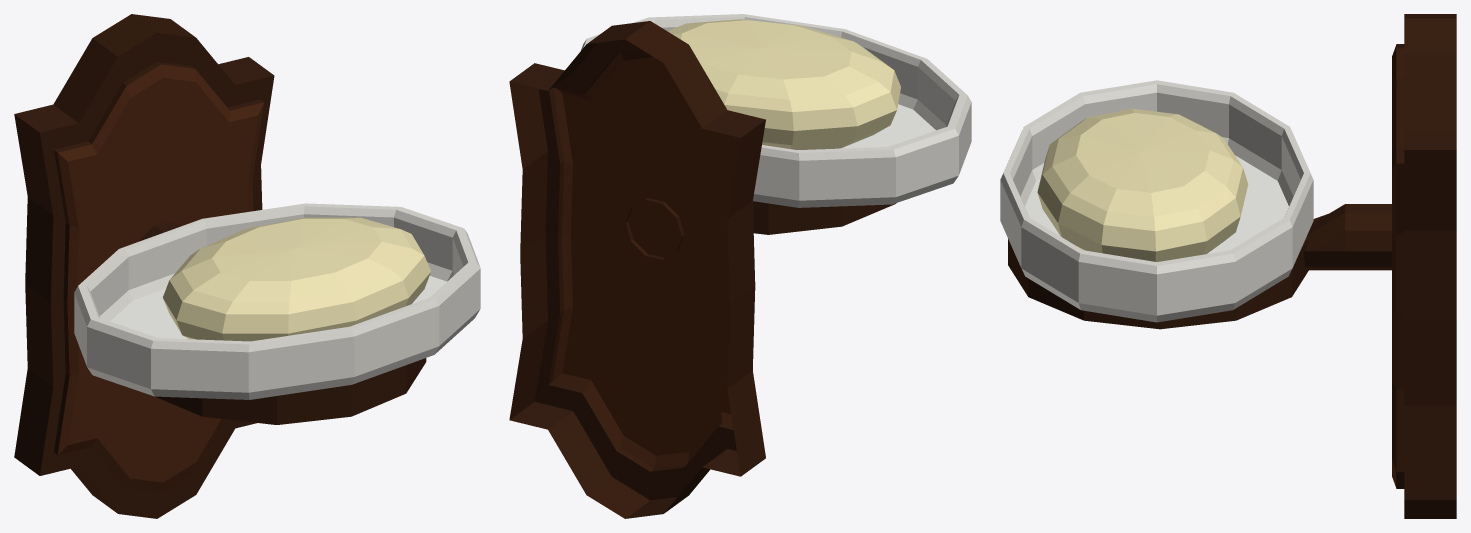
File: soap_0517.fbx
3 views of the same model, side by side, from view 1: azimuth 30°, elevation 25°; view 2: azimuth 150°, elevation 25°; view 3: azimuth 270°, elevation 25° (orthographic). The views are drawn at different scales.
Visible parts, largest first — view 1: Cylinder001; view 2: Cylinder001; view 3: Cylinder001.
Boxes of the visible parts, left/top/right/bottom form: Cylinder001: left=14, top=14, right=480, bottom=518; Cylinder001: left=509, top=14, right=971, bottom=518; Cylinder001: left=1000, top=14, right=1456, bottom=518.
Bounding box in the file's own units: 22.91 × 27.95 × 23.31.
Materials: 1 (1 with a texture image).
